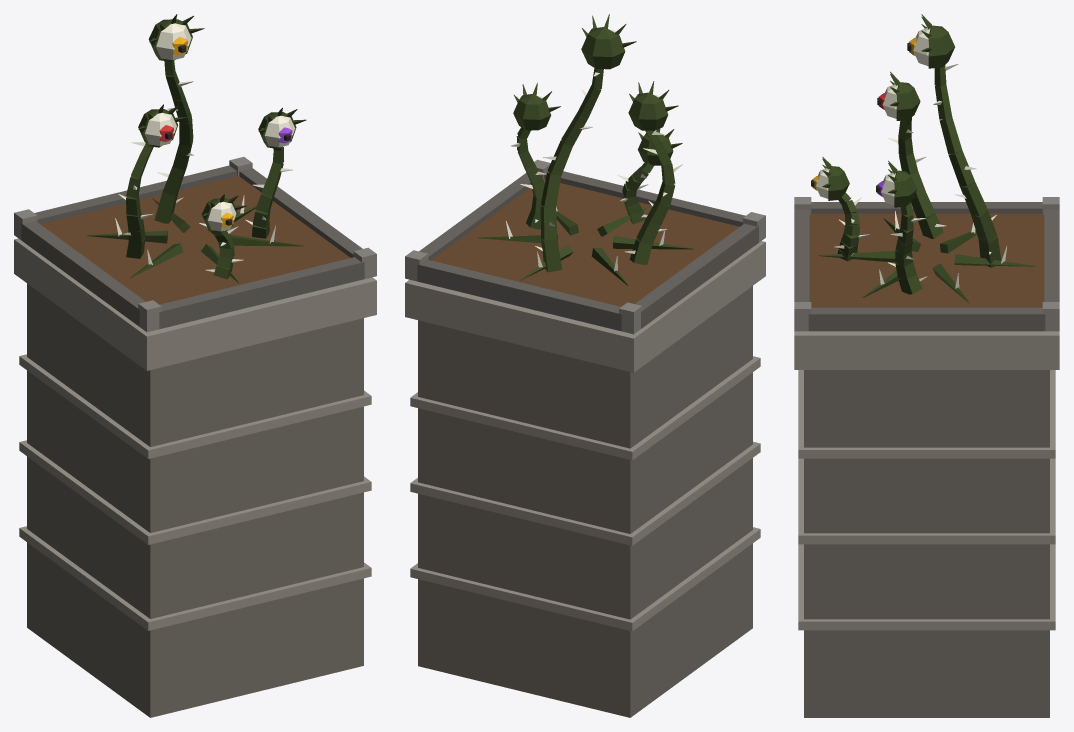
The model's file is decor_eye_vine.glb.
The picture shows the model from 3 angles, left to right: view 1: azimuth 30°, elevation 25°; view 2: azimuth 150°, elevation 25°; view 3: azimuth 270°, elevation 25°; orthographic projection.
Parts seen in each view (by area): view 1: decor_eye_vine; view 2: decor_eye_vine; view 3: decor_eye_vine.
Boxes of the visible parts, bbox=[...] form: decor_eye_vine: bbox=[14, 14, 376, 717]; decor_eye_vine: bbox=[405, 14, 765, 717]; decor_eye_vine: bbox=[794, 14, 1059, 717].
Bounding box in the file's own units: 2.8 × 7.44 × 2.8.
